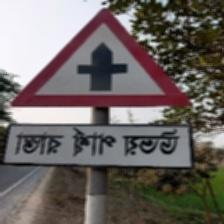Crossroad: (2, 0, 194, 172)
